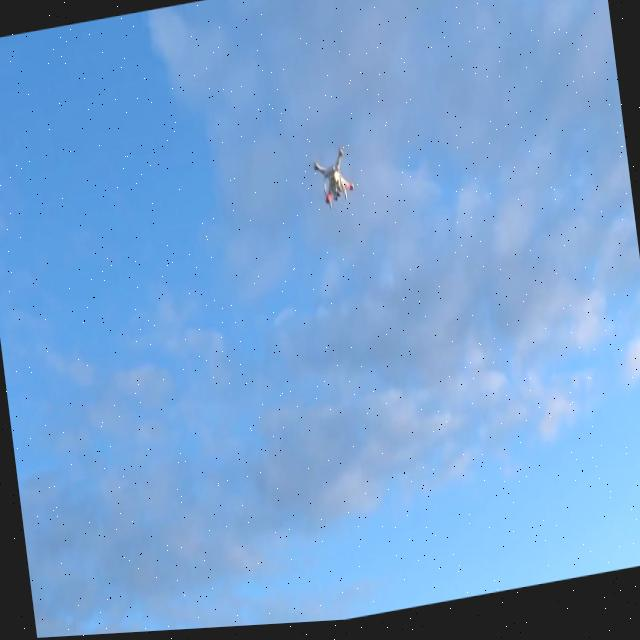drone: (308, 143, 358, 214)
